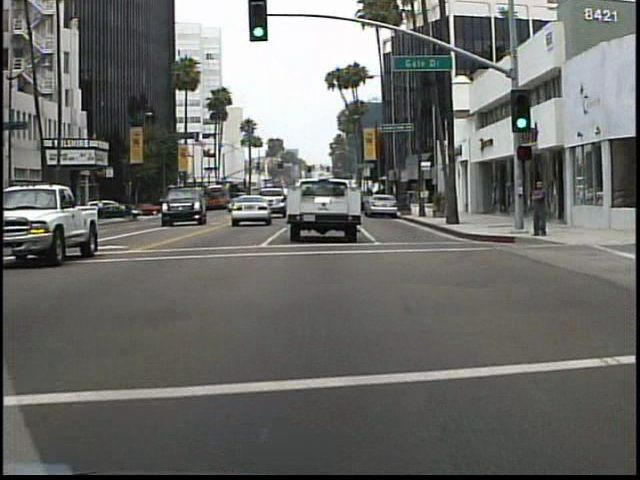person: (525, 173, 549, 242)
